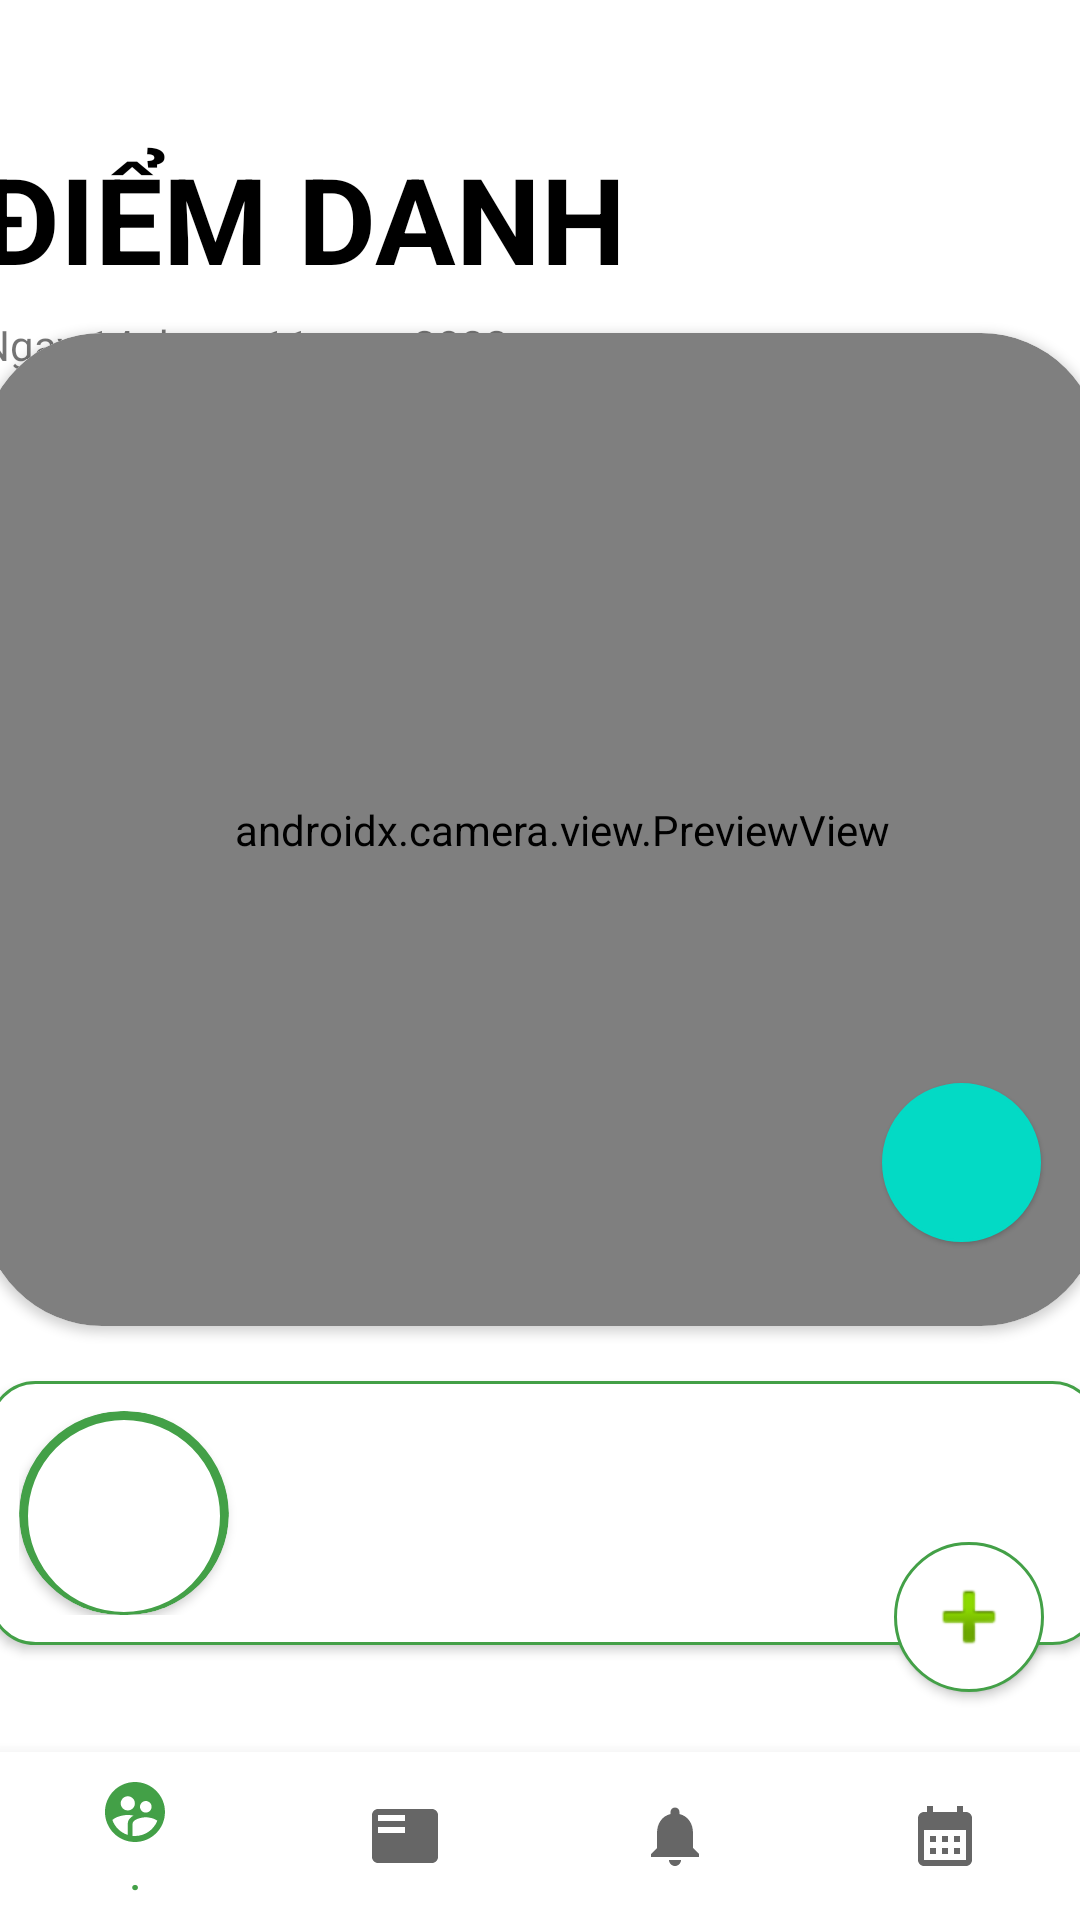

Icon click points for this 1080w x 1920h phone screenshot, format point (x, y):
add: point (969, 1617)
